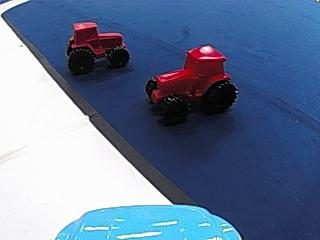Tracktor: (141, 43, 240, 120), (65, 17, 129, 71)
